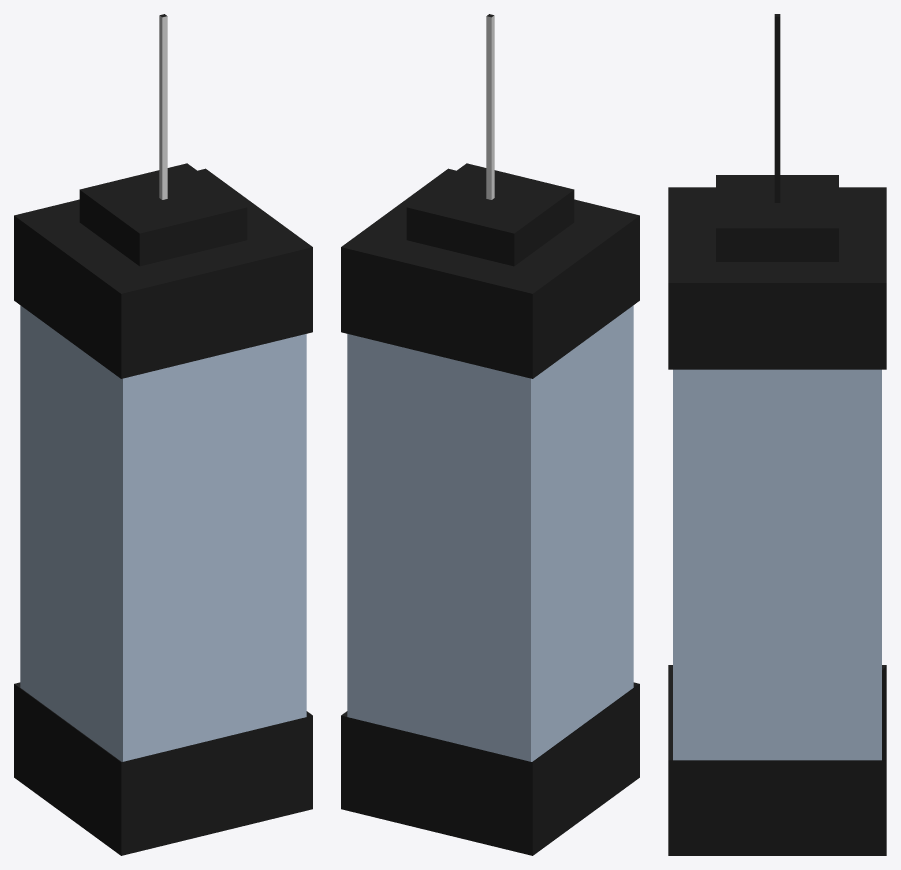
File: building1.glb
3 renders of one model, left to right at view 1: azimuth 30°, elevation 25°; view 2: azimuth 150°, elevation 25°; view 3: azimuth 270°, elevation 25°, orthographic.
Visible parts, largest first — view 1: Cube; view 2: Cube; view 3: Cube.
Boxes of the visible parts, x1=… form: Cube: x1=14, y1=14, x2=312, y2=855; Cube: x1=341, y1=14, x2=639, y2=855; Cube: x1=668, y1=14, x2=886, y2=855.
Bounding box in the file's own units: 3.21 × 12.45 × 3.11.
